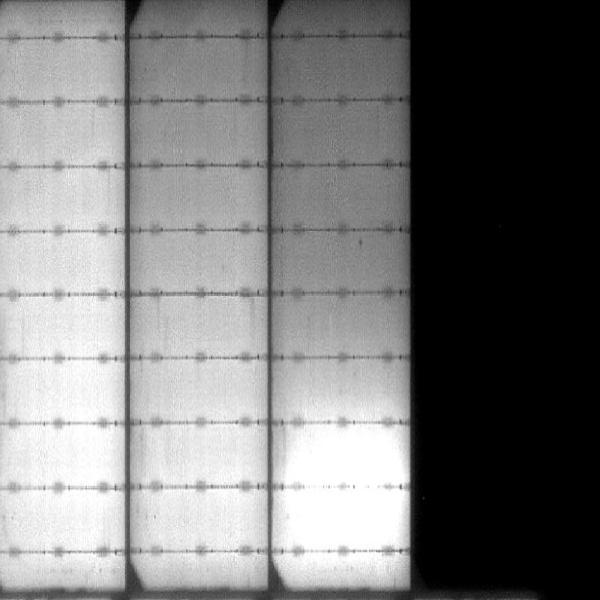hot_spot: (280, 491, 403, 550), (290, 432, 401, 478)
no_electricity: (414, 3, 597, 592)
